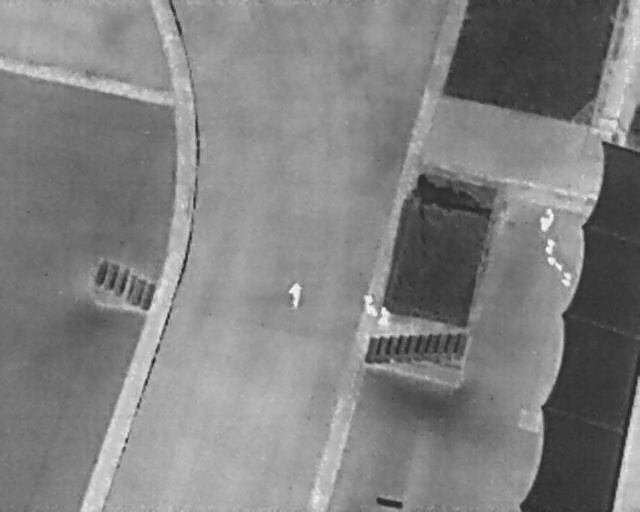Person: (362, 293, 380, 319), (288, 280, 301, 310), (377, 304, 392, 327)
